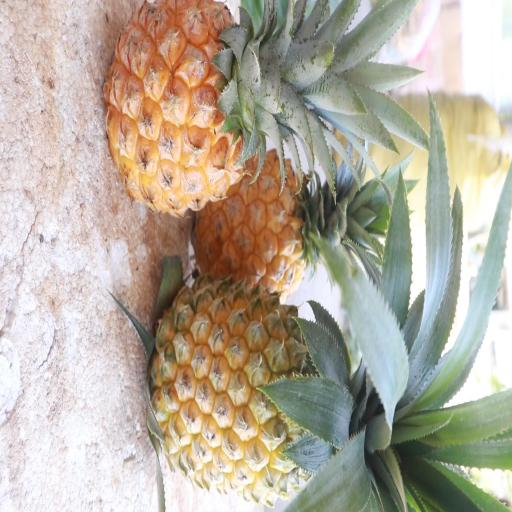Pineapple - v8 v1: (140, 272, 386, 503), (100, 0, 339, 221), (192, 146, 366, 310)
